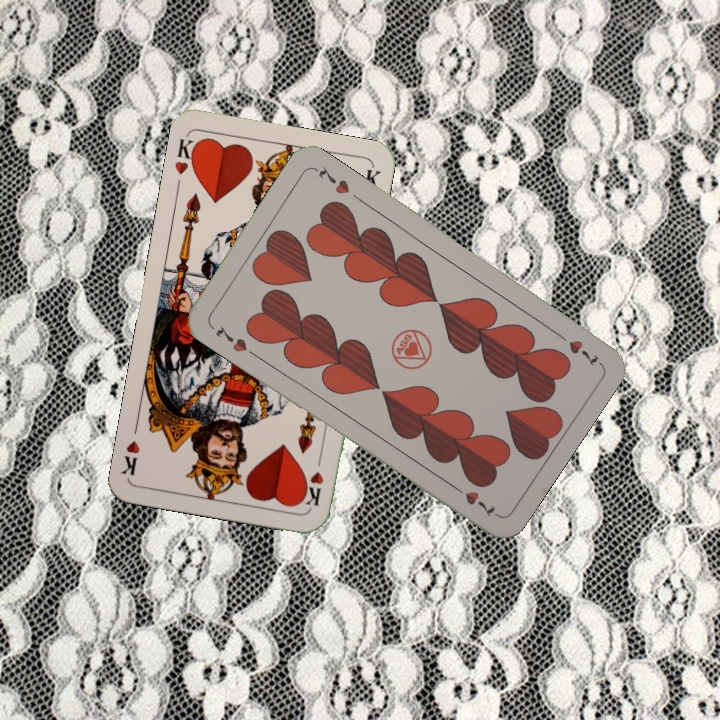H7: (551, 327, 603, 369), (212, 321, 250, 355)
HK: (300, 450, 326, 509), (170, 134, 202, 177)
